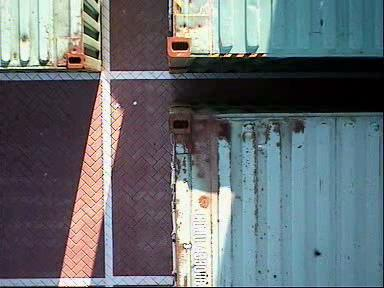groundmarker_2: (166, 133, 234, 226)
